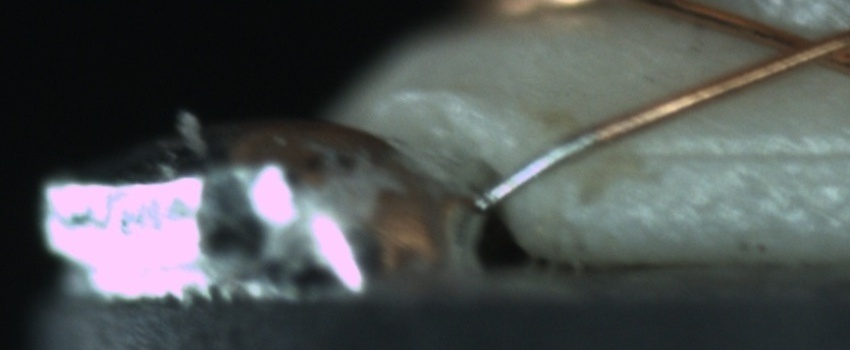CL: (751, 16, 847, 77)
DL: (622, 118, 845, 188)
TS: (483, 131, 606, 211)
